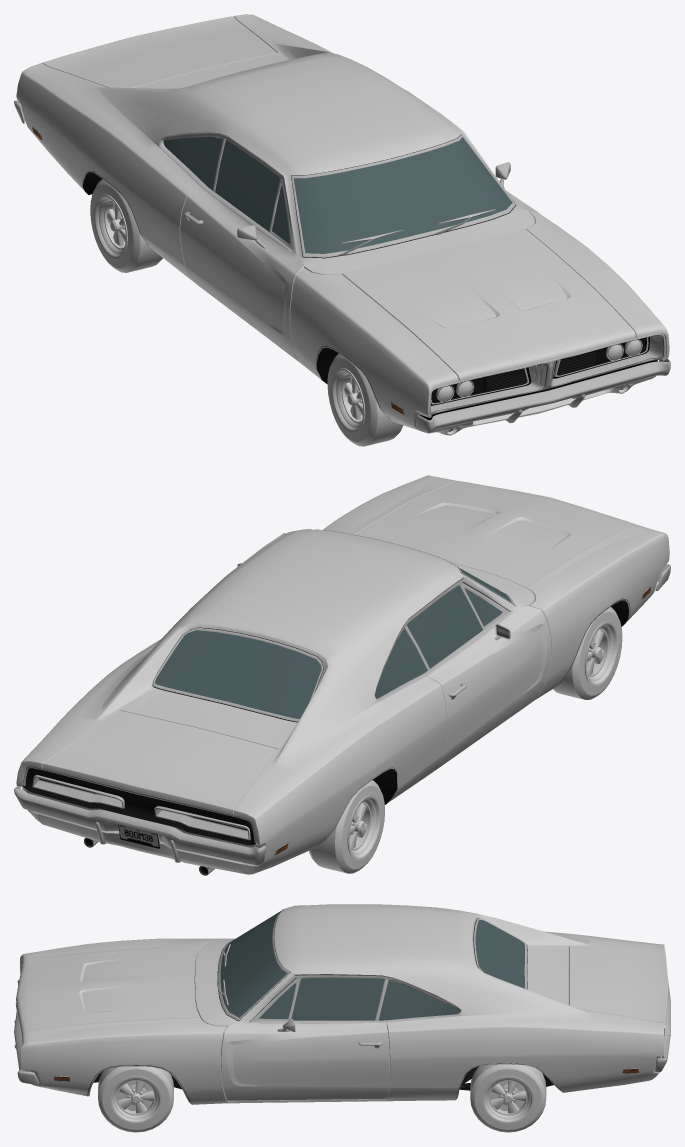
The model's file is Duke_69.fbx.
3 views of the same model, one above another, from view 1: azimuth 30°, elevation 25°; view 2: azimuth 150°, elevation 25°; view 3: azimuth 270°, elevation 25° (orthographic). The views are drawn at different scales.
Parts seen in each view (by area): view 1: Duke_69_Body, Duke_69_Hood, Duke_69_Windshield, Duke_69_Bottom, Duke_69_Trunkdoor, Duke_69_Bodyglass, Duke_69_Bumper_Front, Duke_69_Wheel_FR, Duke_69_Wheel_RR, Duke_69_Headlights; view 2: Duke_69_Body, Duke_69_Hood, Duke_69_Trunkdoor, Duke_69_Bottom, Duke_69_Rear_Glass, Duke_69_Bodyglass, Duke_69_Bumper_Rear, Duke_69_Wheel_RR, Duke_69_Wheel_FR, Duke_69_Numberplate_rear; view 3: Duke_69_Body, Duke_69_Hood, Duke_69_Trunkdoor, Duke_69_Bodyglass, Duke_69_Wheel_RL, Duke_69_Bottom, Duke_69_Wheel_FL, Duke_69_Windshield, Duke_69_Rear_Glass, Duke_69_Bumper_Front, Duke_69_Bumper_Rear.
Boxes of the visible parts, <box> form: Duke_69_Body: <box>16,14,669,435</box>; Duke_69_Hood: <box>342,229,635,380</box>; Duke_69_Windshield: <box>293,137,512,253</box>; Duke_69_Bottom: <box>32,126,665,431</box>; Duke_69_Trunkdoor: <box>42,16,277,87</box>; Duke_69_Bodyglass: <box>163,136,290,244</box>; Duke_69_Bumper_Front: <box>415,358,670,433</box>; Duke_69_Wheel_FR: <box>327,353,403,446</box>; Duke_69_Wheel_RR: <box>90,179,162,272</box>; Duke_69_Headlights: <box>438,340,641,401</box>; Duke_69_Body: <box>16,475,669,874</box>; Duke_69_Hood: <box>355,481,634,587</box>; Duke_69_Trunkdoor: <box>42,710,277,815</box>; Duke_69_Bottom: <box>23,529,650,875</box>; Duke_69_Rear_Glass: <box>154,630,321,718</box>; Duke_69_Bodyglass: <box>374,585,502,698</box>; Duke_69_Bumper_Rear: <box>14,786,265,865</box>; Duke_69_Wheel_RR: <box>309,780,384,873</box>; Duke_69_Wheel_FR: <box>553,607,622,699</box>; Duke_69_Numberplate_rear: <box>118,824,160,848</box>; Duke_69_Body: <box>20,904,664,1104</box>; Duke_69_Hood: <box>16,947,200,1034</box>; Duke_69_Trunkdoor: <box>569,946,668,1022</box>; Duke_69_Bodyglass: <box>259,978,459,1020</box>; Duke_69_Wheel_RL: <box>470,1064,546,1132</box>; Duke_69_Bottom: <box>15,909,639,1104</box>; Duke_69_Wheel_FL: <box>98,1066,173,1132</box>; Duke_69_Windshield: <box>220,911,287,1017</box>; Duke_69_Rear_Glass: <box>475,920,524,988</box>; Duke_69_Bumper_Front: <box>14,980,39,1084</box>; Duke_69_Bumper_Rear: <box>655,983,670,1072</box>.
Size of the model in its own units: 1964 by 1368 by 5235.
